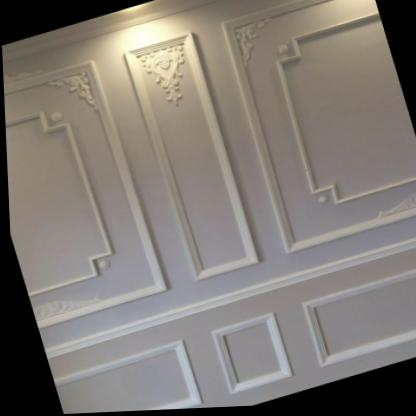Futec frame: (1, 15, 210, 416), (211, 0, 416, 391), (119, 24, 305, 412)
